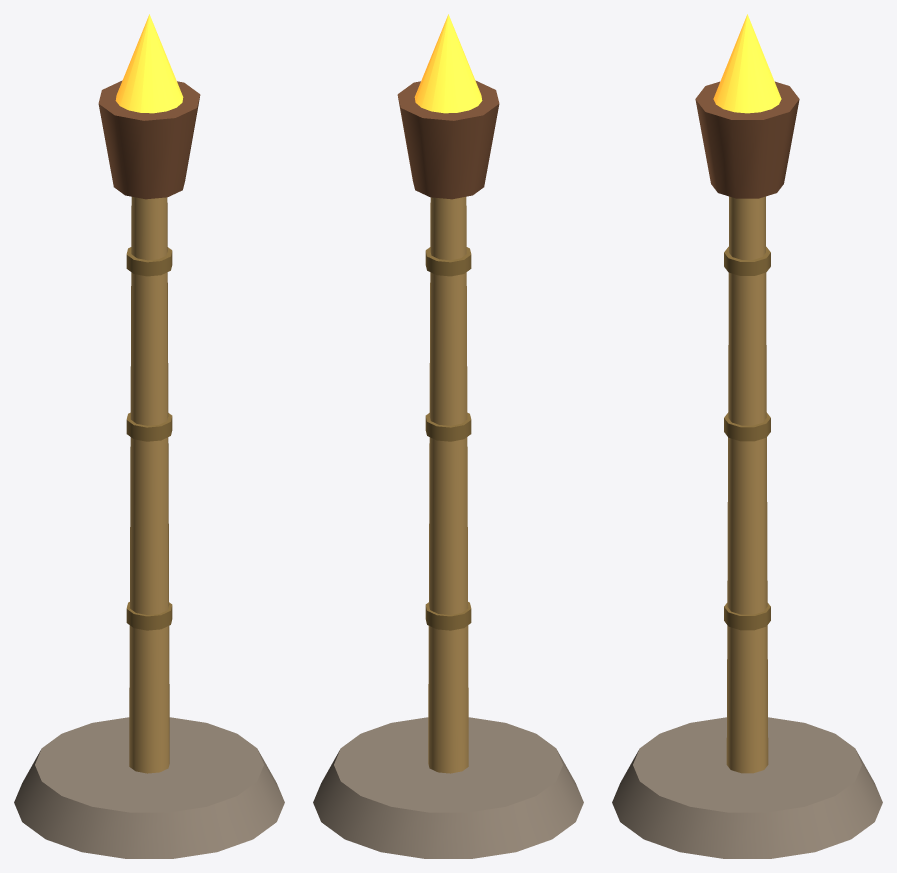
File: lantern-torch.glb
The picture shows the model from 3 angles, left to right: view 1: azimuth 30°, elevation 25°; view 2: azimuth 150°, elevation 25°; view 3: azimuth 270°, elevation 25°; orthographic projection.
Bounding box in the file's own units: 0.5121 × 1.67 × 0.52.
